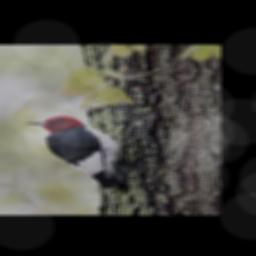Woodpecker: (26, 115, 124, 190)
